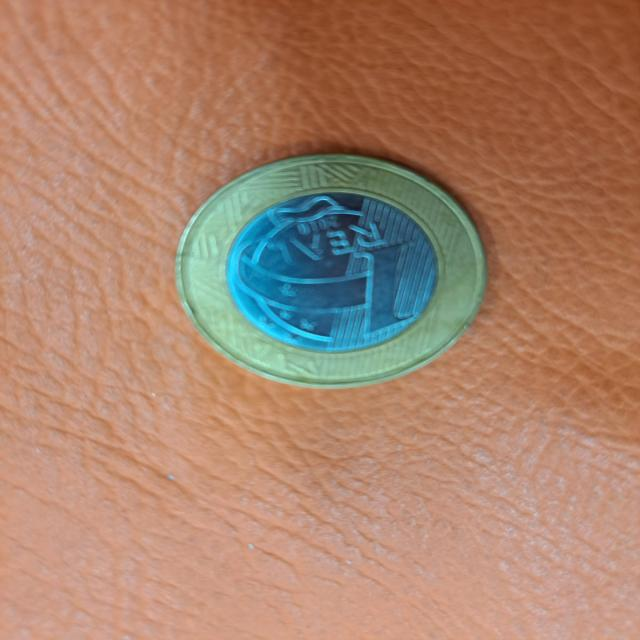1 real: (157, 130, 515, 402)
